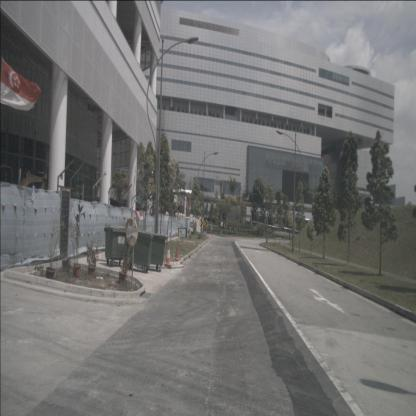cone: (164, 244, 172, 267), (174, 242, 180, 261)
